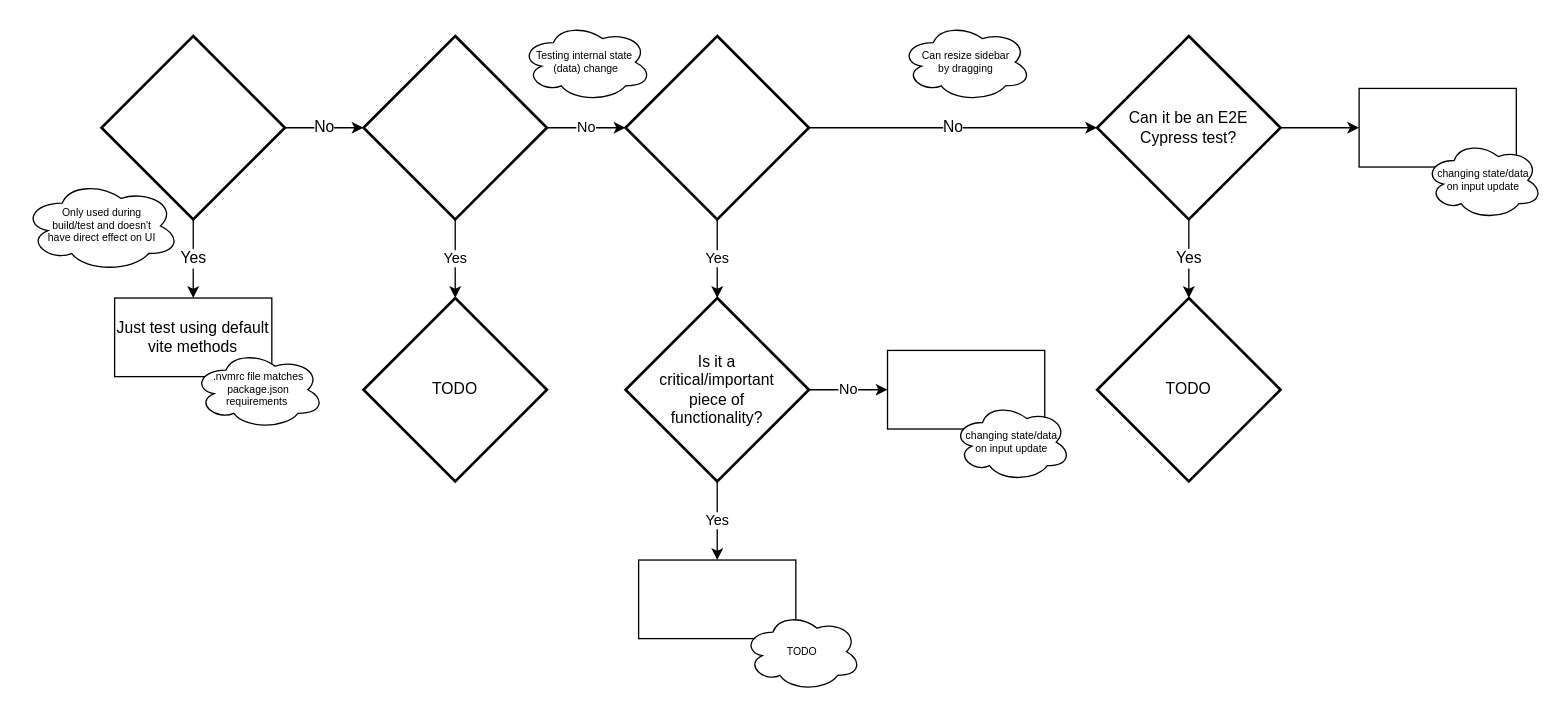
The diagram is 1565 pixels wide and 714 high, and some of its shapes have lost their labels. The shapes that lost their labels are listed below. From the top down, each one's centre as x and y in pixels, then its label:
At point (193, 127): "Is it a piece of infra?".
At point (455, 127): "Can it be a whitebox testing-library test?".
At point (717, 127): "Can it be a blackbox test-utils test?".
At point (1437, 127): "No way to test it".
At point (965, 389): "Don't test it".
At point (716, 599): "Test using test-utils".
